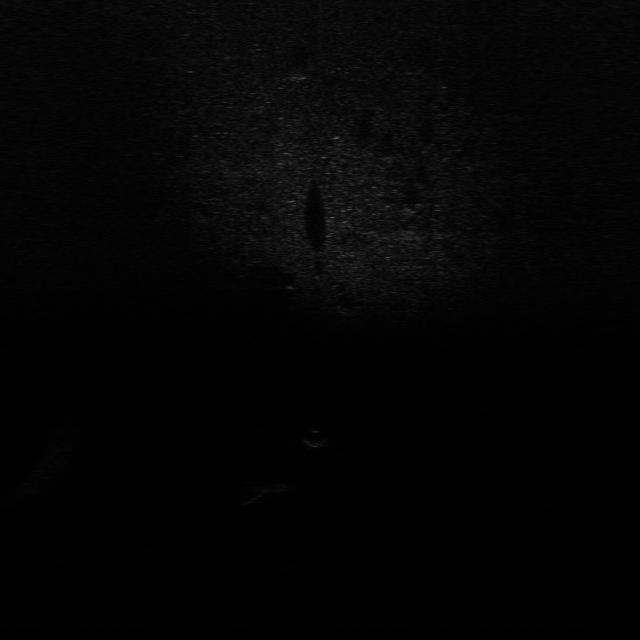ball: (298, 426, 331, 450)
square cage: (241, 480, 297, 501)
